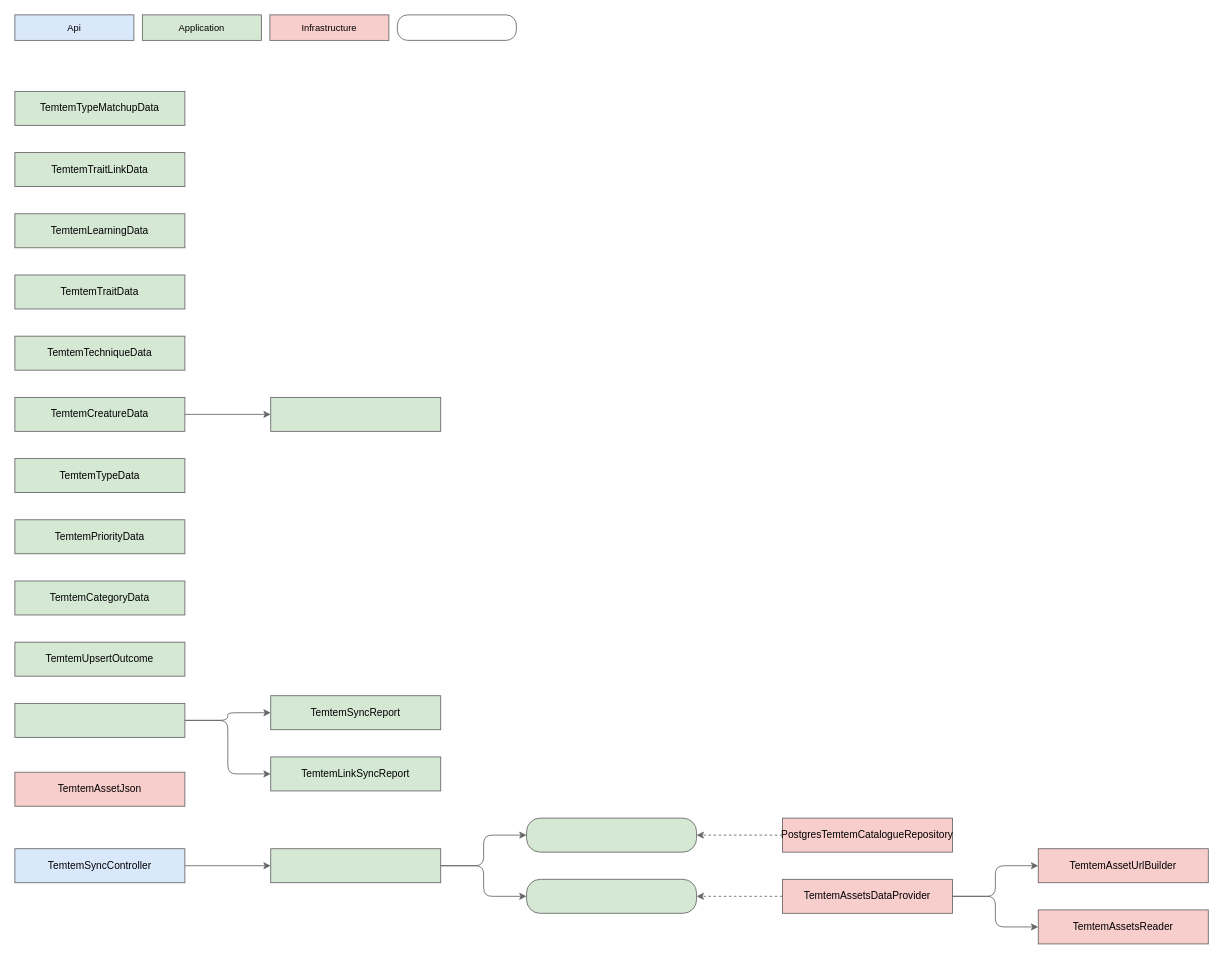
Some shapes in this 1223 by 959 pixel diagram are drawn without their labels. The centre of each missing label's shape, as x and y in pixels:
"ITemtemCatalogueRepository" belongs at (x=611, y=834).
"ITemtemDataProvider" belongs at (x=611, y=895).
"Port (interface)" belongs at (x=456, y=27).
"SyncTemtemCatalogueUseCase" belongs at (x=355, y=865).
"TemtemCatalogueSyncReport" belongs at (x=99, y=720).
"TemtemStatsData" belongs at (x=355, y=414).
